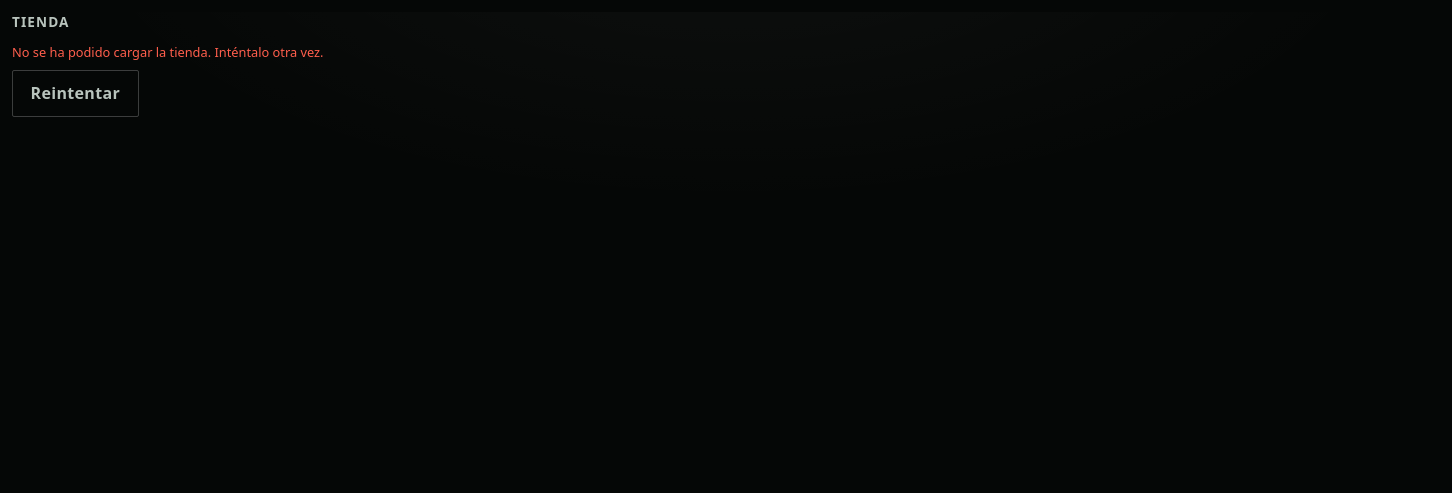
Test case: ShopPanel › vuelve a consultar con el reintento y se abre si esta vez responde
This screenshot has width=1452, height=493.
expect the message reads "No se ha podido cargar la tienda. Inténtalo otra vez.": met, box 12,43 -> 324,61
Click the button "Reintentar" at [75, 93], box 12,70 -> 139,117
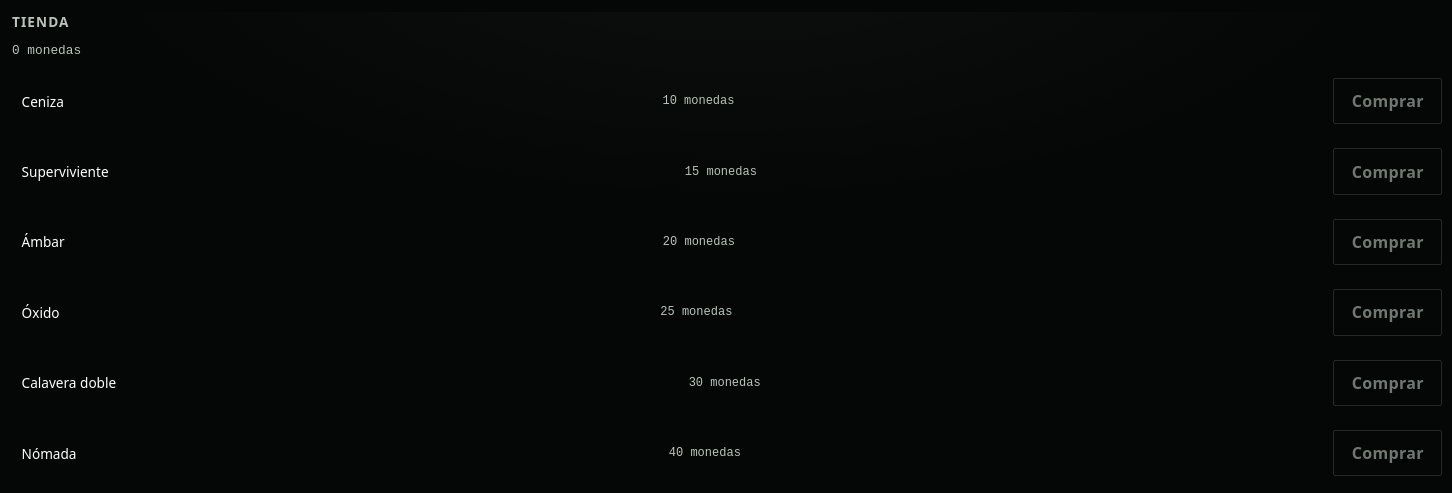
expect the text "0 monedas" is shown: met, box 12,43 -> 81,58
expect the message "No se ha podido cargar la tienda. Inténtalo otra vez." is gone: met
